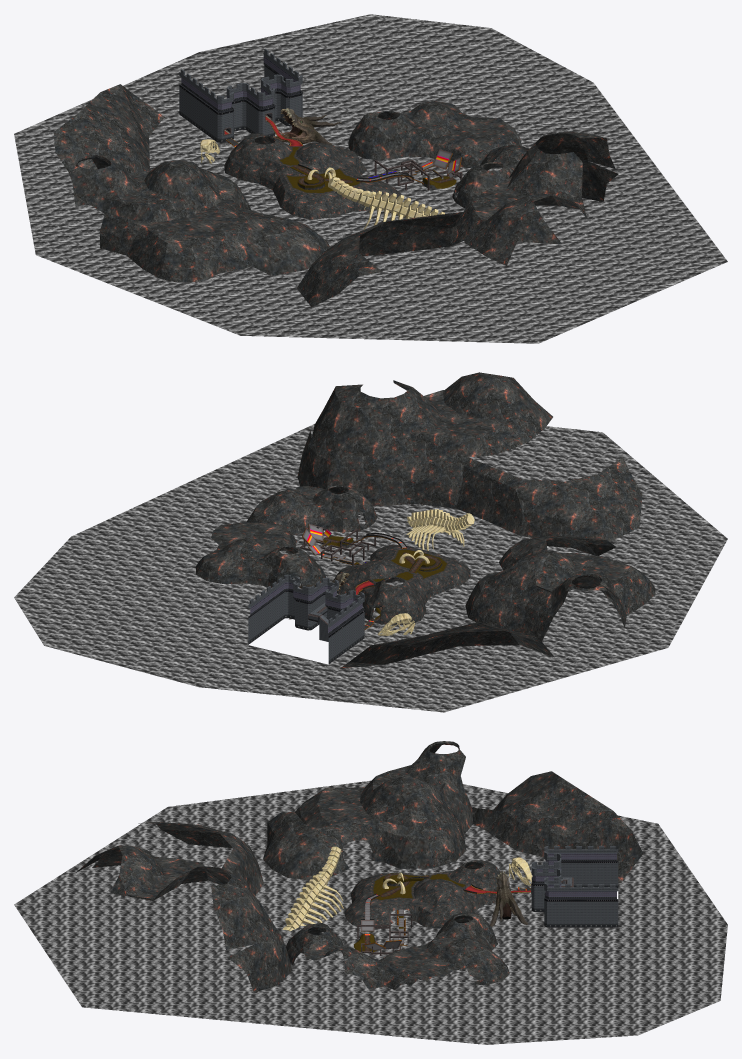
3 views of the same model, one above another, from view 1: azimuth 30°, elevation 25°; view 2: azimuth 150°, elevation 25°; view 3: azimuth 270°, elevation 25° (orthographic). The views are drawn at different scales.
Visible parts, largest first — view 1: course_model_SKP__lava, course_model_SKP__rock, course_model_SKP__wall, course_model_SKP__dragon_bone, course_model_SKP__bowser_wall, course_model_SKP__dragonhead, course_model_SKP__rocktransition, course_model_SKP__metal_border, course_model_SKP__offroad.001, course_model_SKP__metal_plate, course_model_SKP__sike_column; view 2: course_model_SKP__lava, course_model_SKP__rock, course_model_SKP__wall, course_model_SKP__dragon_bone, course_model_SKP__bowser_wall, course_model_SKP__rocktransition, course_model_SKP__metal_border, course_model_SKP__offroad.001, course_model_SKP__metal_plate; view 3: course_model_SKP__lava, course_model_SKP__rock, course_model_SKP__wall, course_model_SKP__dragon_bone, course_model_SKP__bowser_wall, course_model_SKP__dragonhead, course_model_SKP__rocktransition, course_model_SKP__offroad.001, course_model_SKP__metal_plate, course_model_SKP__metal_border.
Boxes of the visible parts, x1,y1,x2,y2 form: course_model_SKP__lava: (14, 14, 727, 343); course_model_SKP__rock: (53, 84, 618, 307); course_model_SKP__wall: (179, 48, 302, 138); course_model_SKP__dragon_bone: (200, 139, 444, 229); course_model_SKP__bowser_wall: (179, 56, 300, 142); course_model_SKP__dragonhead: (273, 108, 341, 144); course_model_SKP__rocktransition: (277, 146, 436, 194); course_model_SKP__metal_border: (223, 113, 462, 190); course_model_SKP__offroad.001: (283, 158, 456, 191); course_model_SKP__metal_plate: (358, 149, 461, 182); course_model_SKP__sike_column: (179, 65, 402, 171); course_model_SKP__lava: (14, 424, 727, 712); course_model_SKP__rock: (195, 372, 655, 668); course_model_SKP__wall: (248, 574, 364, 660); course_model_SKP__dragon_bone: (377, 509, 474, 635); course_model_SKP__bowser_wall: (248, 582, 364, 663); course_model_SKP__rocktransition: (339, 538, 449, 612); course_model_SKP__metal_border: (300, 528, 375, 624); course_model_SKP__offroad.001: (321, 536, 444, 619); course_model_SKP__metal_plate: (302, 524, 406, 564); course_model_SKP__lava: (14, 780, 727, 1044); course_model_SKP__rock: (76, 741, 643, 992); course_model_SKP__wall: (531, 846, 618, 923); course_model_SKP__dragon_bone: (282, 846, 532, 931); course_model_SKP__bowser_wall: (531, 853, 618, 927); course_model_SKP__dragonhead: (489, 871, 527, 926); course_model_SKP__rocktransition: (359, 872, 467, 942); course_model_SKP__offroad.001: (354, 875, 446, 952); course_model_SKP__metal_plate: (361, 895, 404, 950); course_model_SKP__metal_border: (357, 877, 573, 955).
Size of the model in its own units: 368577 by 75245 by 411566.
Materials: 27 (27 with a texture image).
